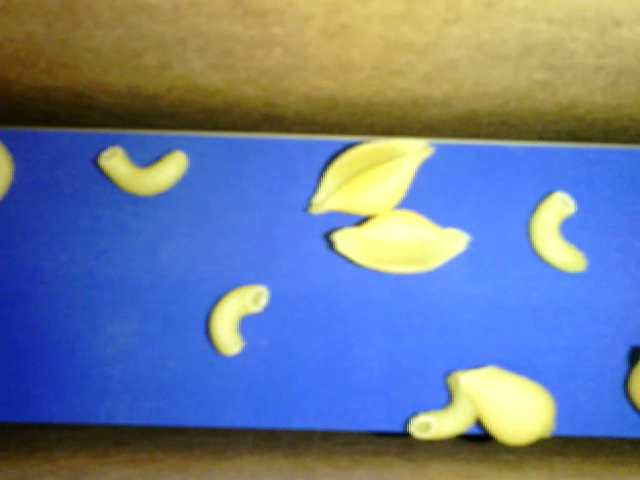elbow: (528, 189, 588, 274), (98, 144, 188, 196), (207, 284, 271, 356), (407, 387, 475, 439)
shell: (306, 140, 436, 216), (326, 208, 471, 274), (446, 364, 554, 445)
